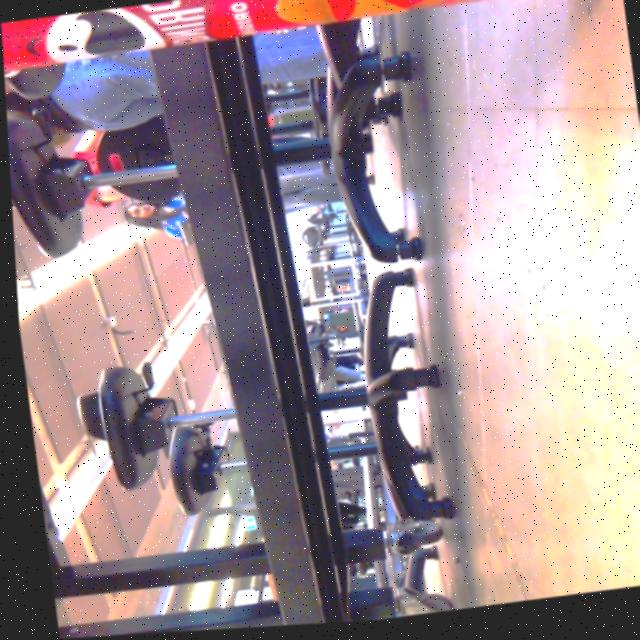redpringles: (0, 0, 629, 122)
